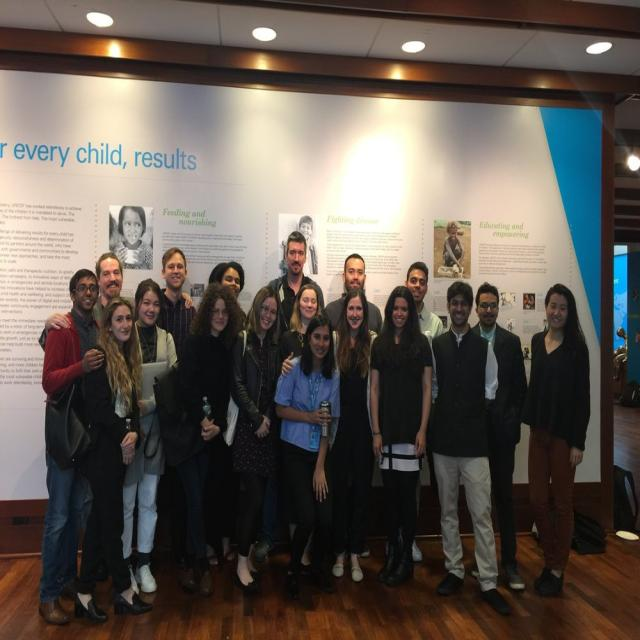body: (420, 276, 514, 618), (71, 294, 155, 628), (173, 276, 250, 602), (36, 268, 105, 627), (518, 281, 592, 602), (368, 282, 436, 584), (270, 311, 342, 591), (228, 284, 290, 597), (119, 276, 178, 596), (470, 280, 530, 590), (37, 250, 195, 359), (328, 286, 381, 584), (404, 260, 446, 538), (262, 228, 327, 339), (322, 251, 385, 337), (154, 245, 199, 363), (275, 282, 325, 378), (499, 290, 547, 363), (108, 203, 153, 269), (611, 287, 639, 385), (279, 215, 319, 274), (208, 260, 246, 300), (440, 218, 466, 274), (189, 282, 205, 300), (432, 315, 447, 330)
